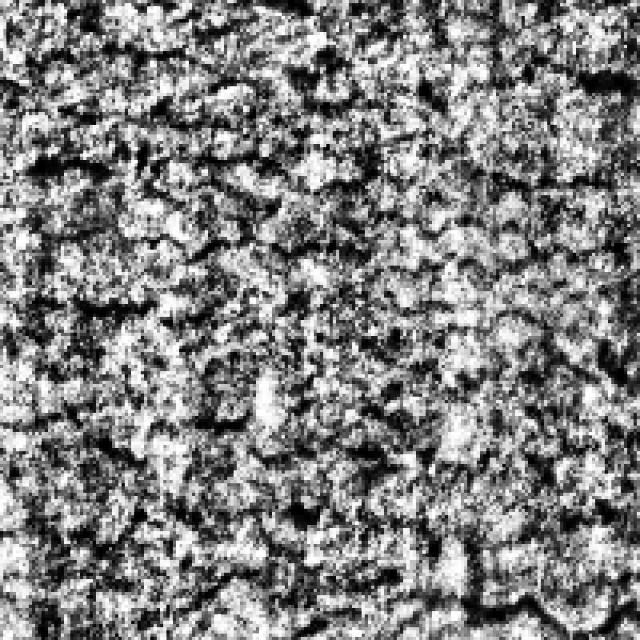Pitted_Surface: (28, 6, 628, 342), (45, 348, 628, 630)
